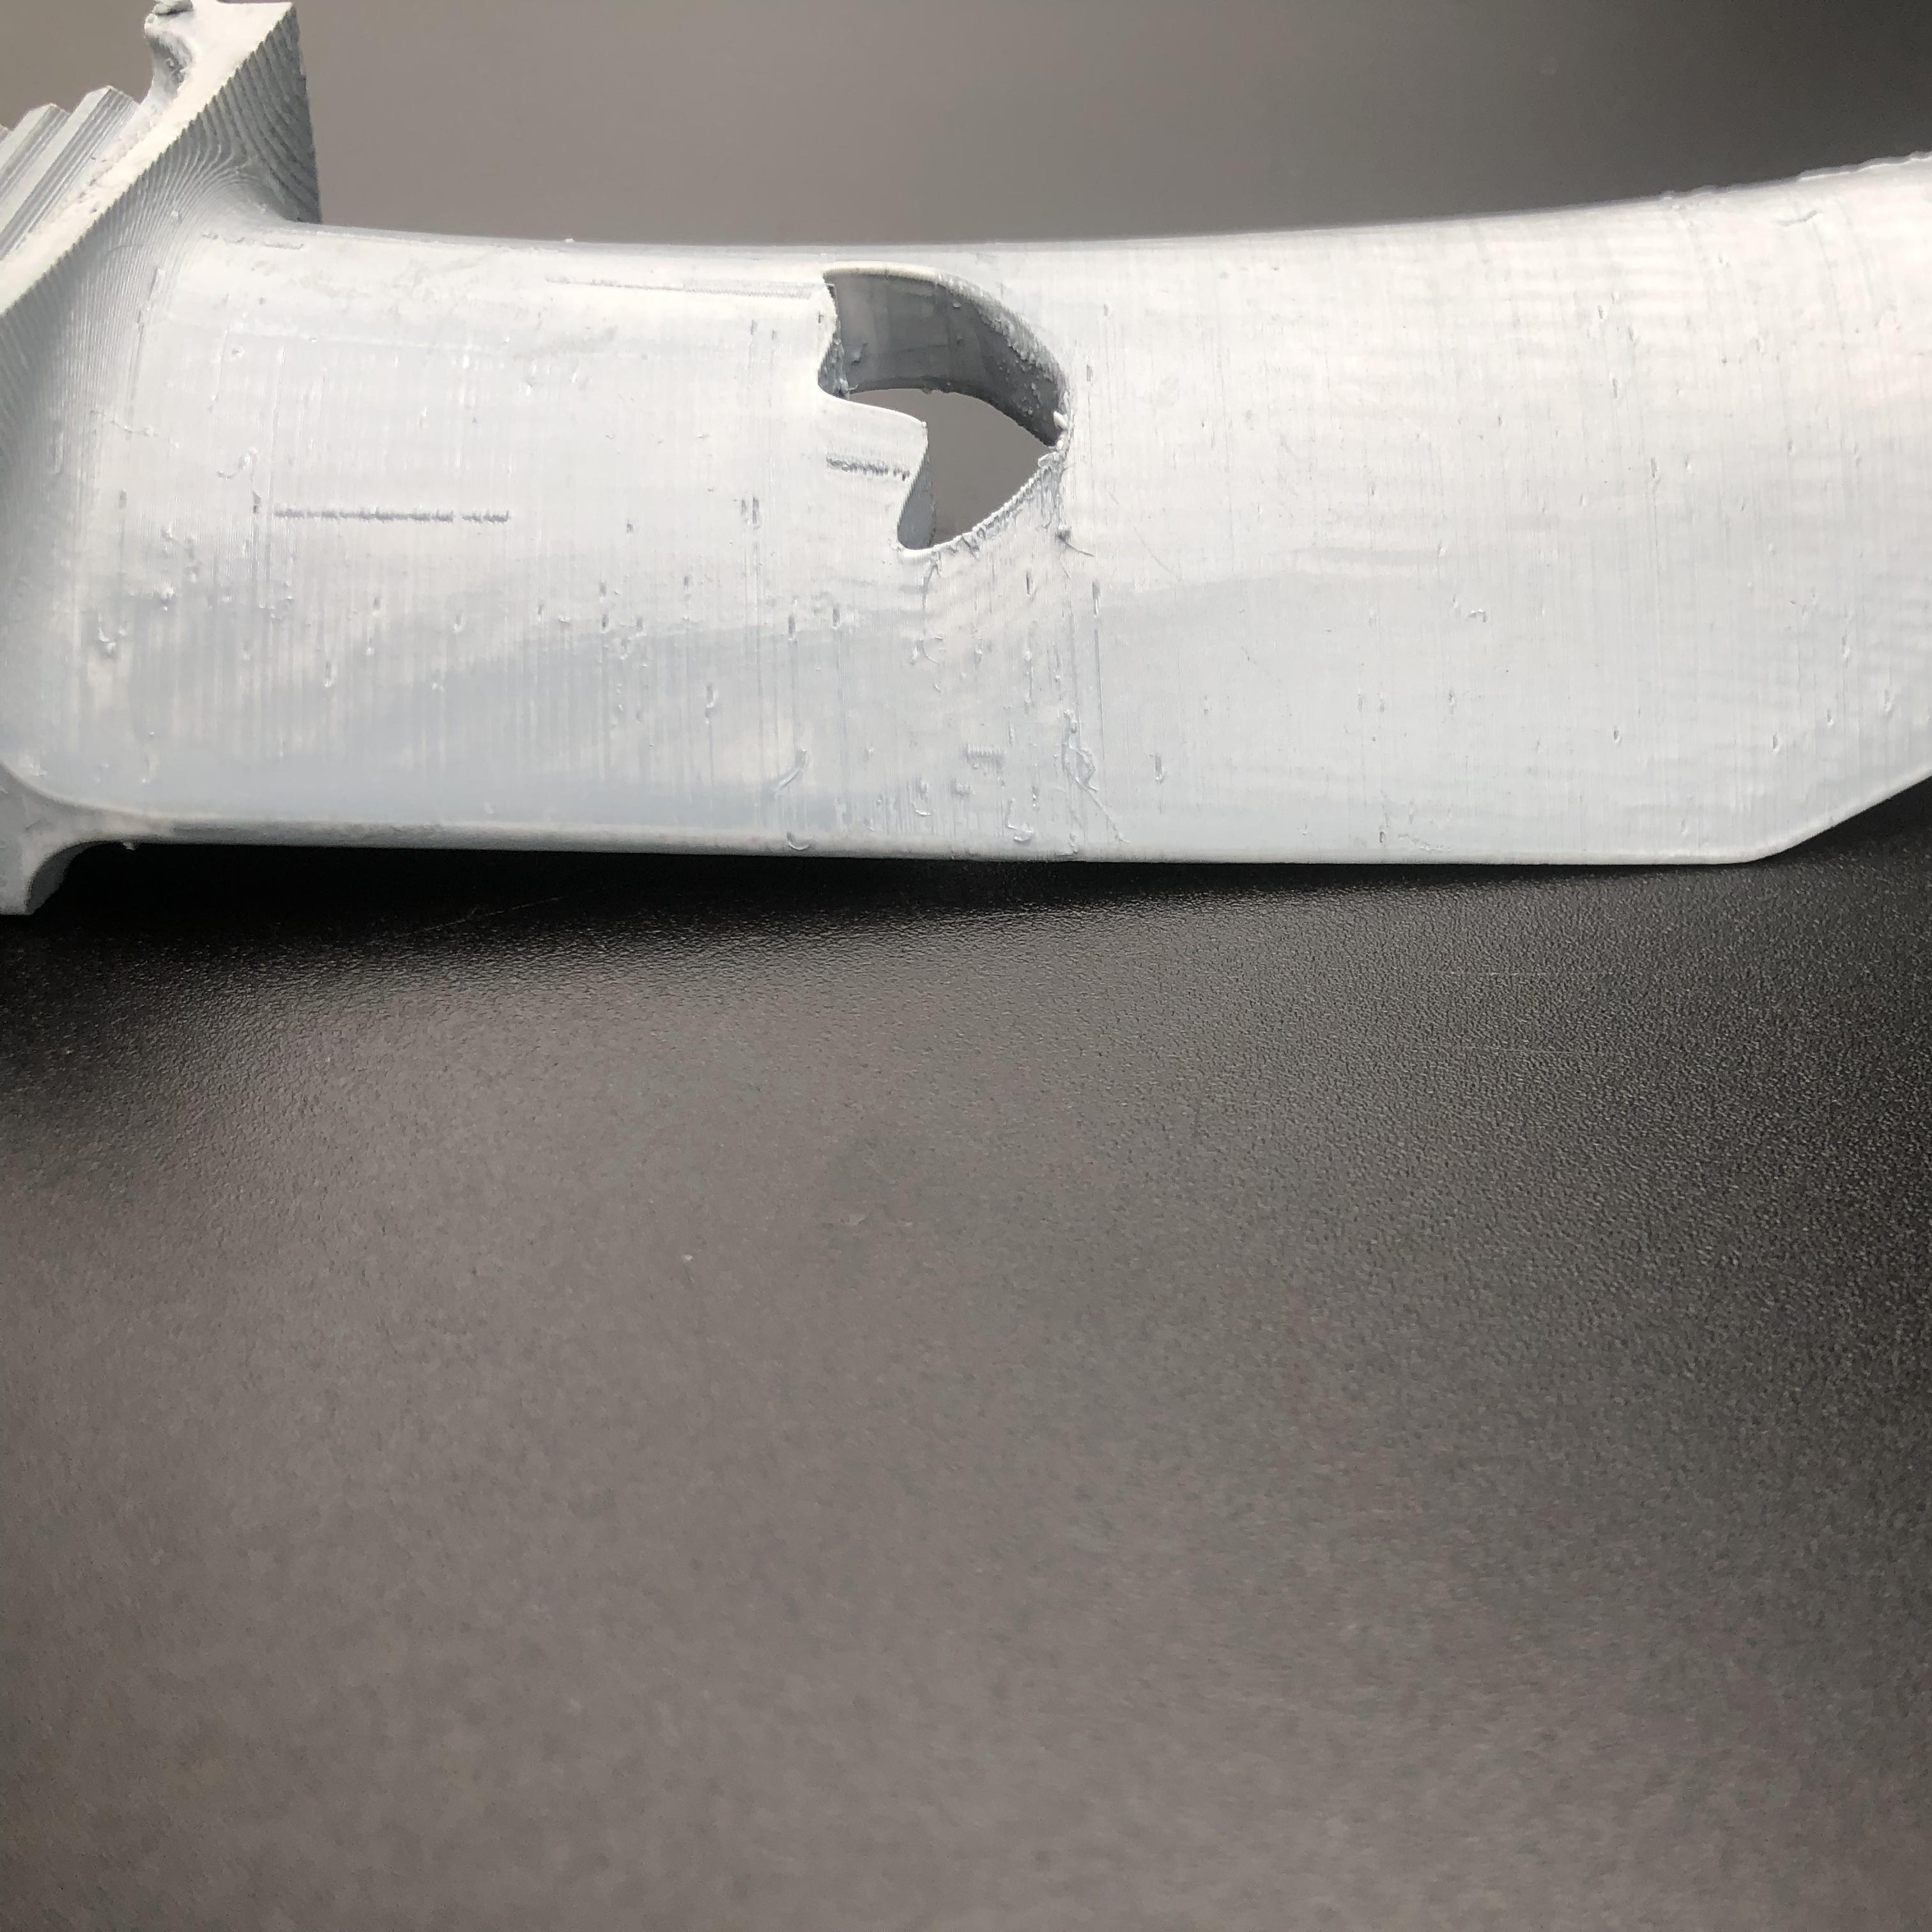breakdown: (807, 264, 1086, 573)
